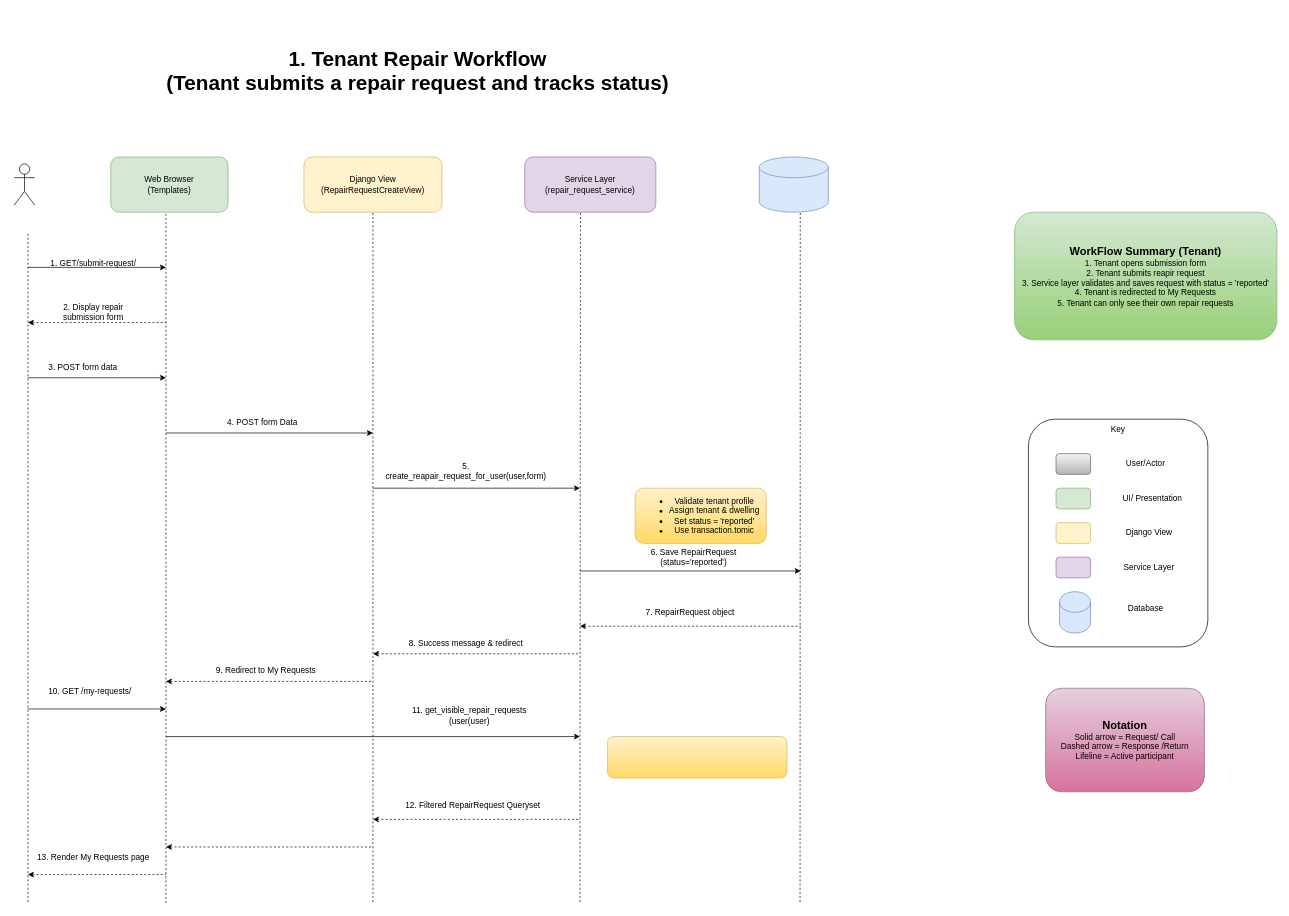
Some shapes in this 1289 by 916 pixel diagram are drawn without their labels. Here are the shapes that lost their labels. From the top down, the centre of each, then its label:
At point 24,184: "Tenant (User)".
At point 793,184: "Database (Models)".
At point 697,757: "If tenant -> return own reapirs If staff/manager -> return all repairs".
